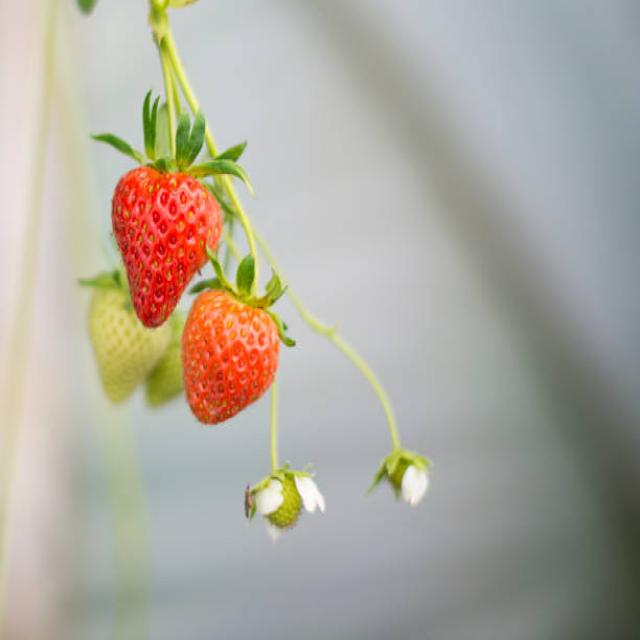Healthy Fruit: (111, 165, 221, 326), (182, 289, 281, 426)
